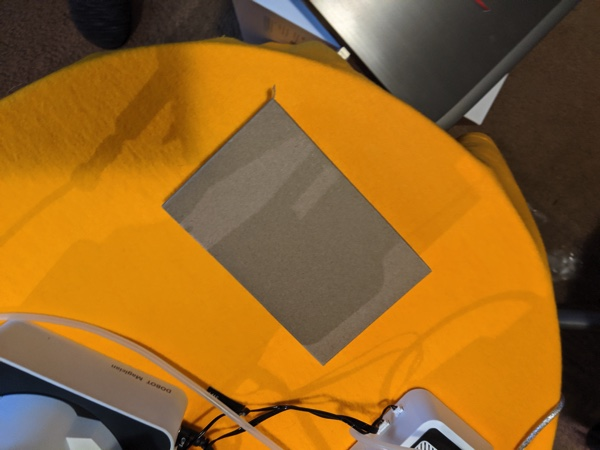cardboard: (151, 82, 448, 370)
